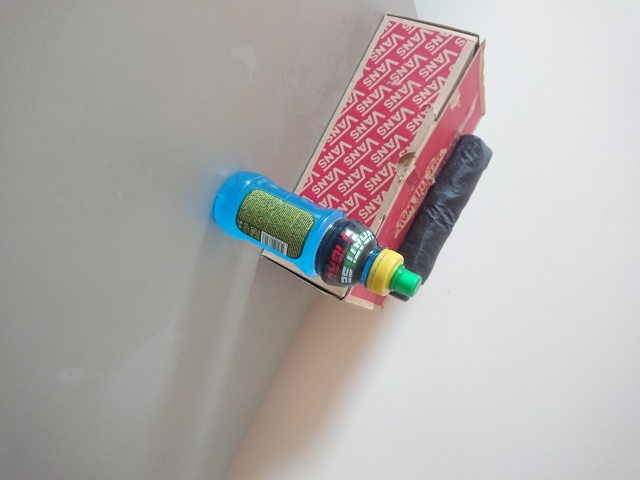Vindi Iso Sport Forest Strawberries 500mL: (211, 169, 424, 298)
